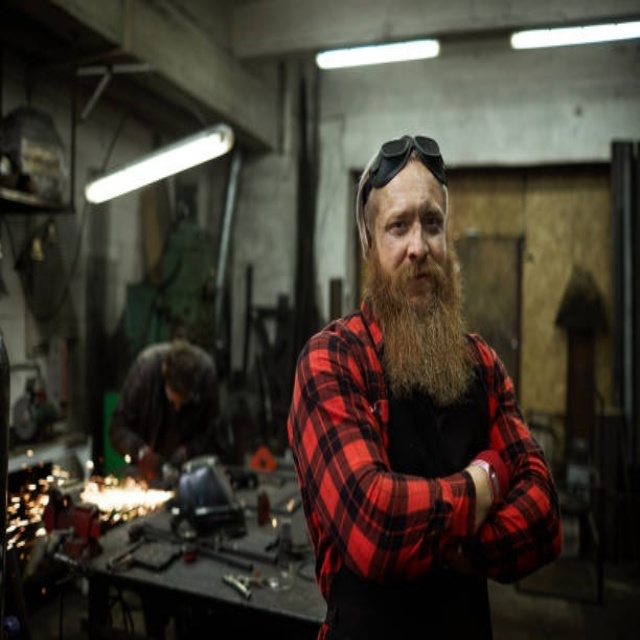Sin_gafas: (378, 205, 449, 240)
Sin_mascara: (396, 257, 437, 298)
